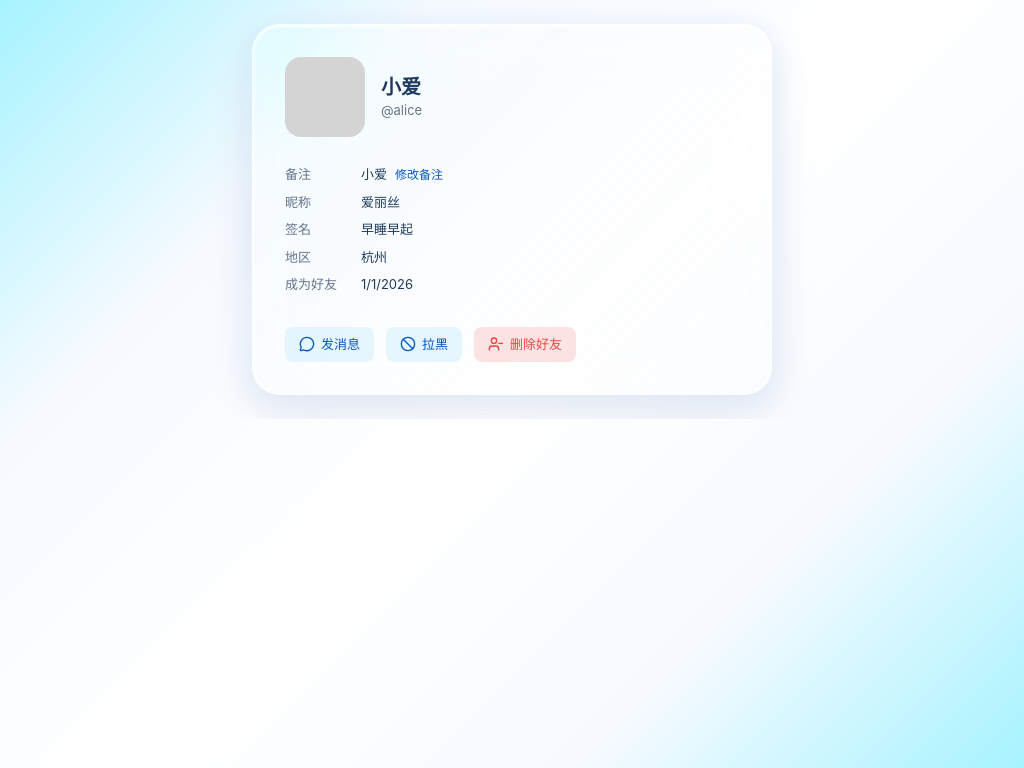
ProfileView › 拉黑失败：显示错误行
This screenshot has width=1024, height=768.
Expected: the text "早睡早起" is shown, [361, 220, 413, 240]
Click the button "拉黑". click: (424, 344)
box: [386, 326, 462, 362]
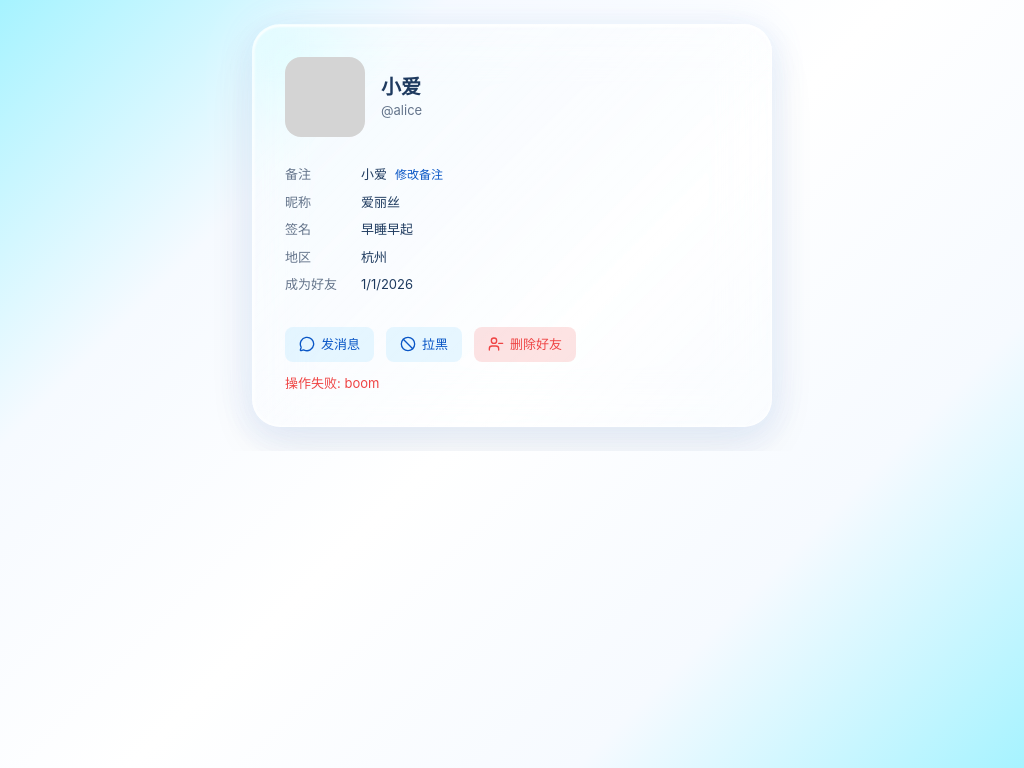
Expected: the text "操作失败: boom" is shown, [285, 375, 379, 391]
